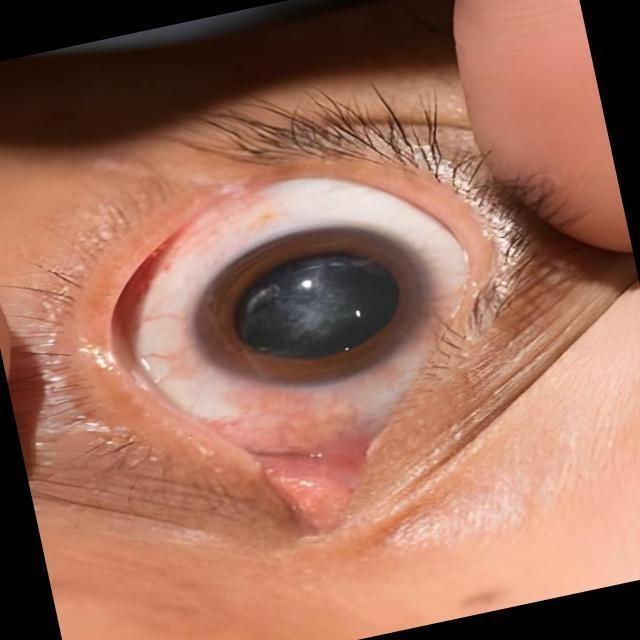Cataract: (156, 194, 446, 422)
